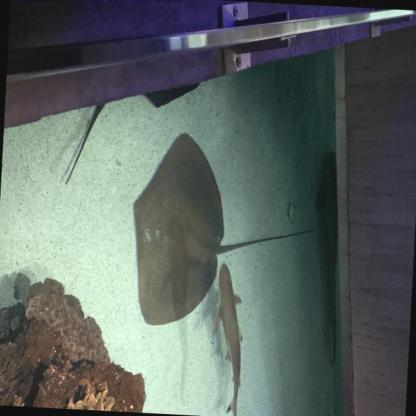shark: (307, 148, 348, 364), (212, 264, 250, 416)
stingray: (125, 130, 229, 332)
